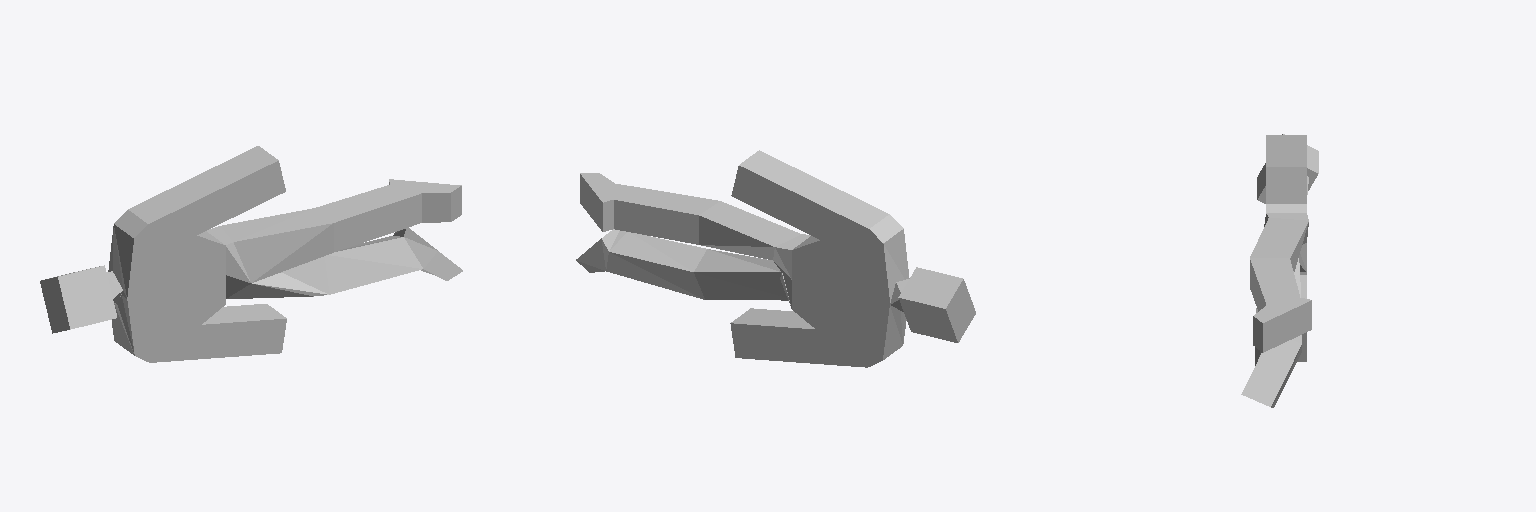
Rendered from drunk-lie.obj.
3 renders of one model, left to right at view 1: azimuth 30°, elevation 25°; view 2: azimuth 150°, elevation 25°; view 3: azimuth 270°, elevation 25°, orthographic.
Visible parts, largest first — view 1: RLeg.001; view 2: RLeg.001; view 3: RLeg.001.
Part boxes in pixels (x1,y1,x2,y2): RLeg.001: (40,146,462,362); RLeg.001: (576,150,975,367); RLeg.001: (1241,134,1318,407).
Bounding box in the file's own units: 1.67 × 0.7843 × 0.2842.